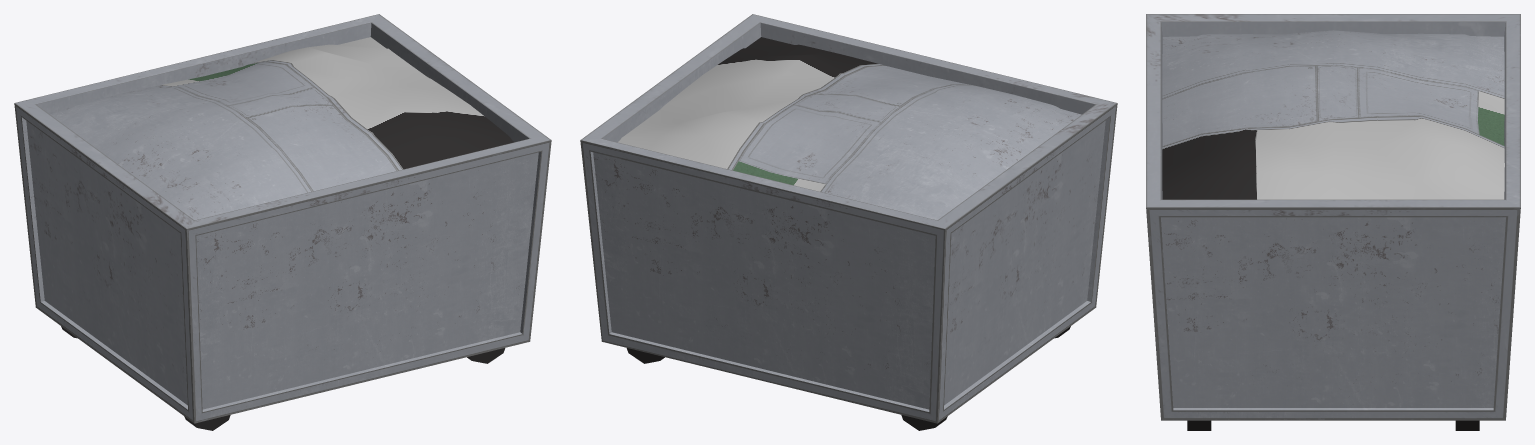
File: Fbx_Prop_LabCave_TubFilled.fbx
3 views of the same model, side by side, from view 1: azimuth 30°, elevation 25°; view 2: azimuth 150°, elevation 25°; view 3: azimuth 270°, elevation 25° (orthographic). The views are drawn at different scales.
Visible parts, largest first — view 1: pCube56, pCube57; view 2: pCube56, pCube57; view 3: pCube56, pCube57.
Boxes of the visible parts, box(x1,y1,x2,y2) form: pCube56: box(14, 14, 551, 423); pCube57: box(50, 37, 514, 220); pCube56: box(580, 14, 1117, 423); pCube57: box(618, 37, 1081, 220); pCube56: box(1146, 14, 1520, 420); pCube57: box(1162, 30, 1504, 199).
Size of the model in its own units: 299 by 194 by 245.
